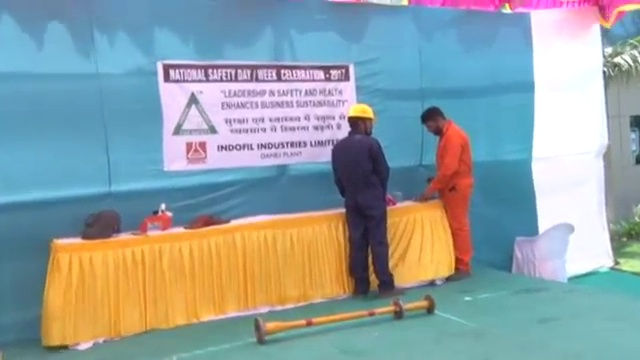helmet: (346, 102, 376, 119)
helmet_off: (421, 105, 448, 136)
helmet_on: (344, 102, 376, 136)
person: (332, 103, 404, 299), (417, 106, 476, 283)
